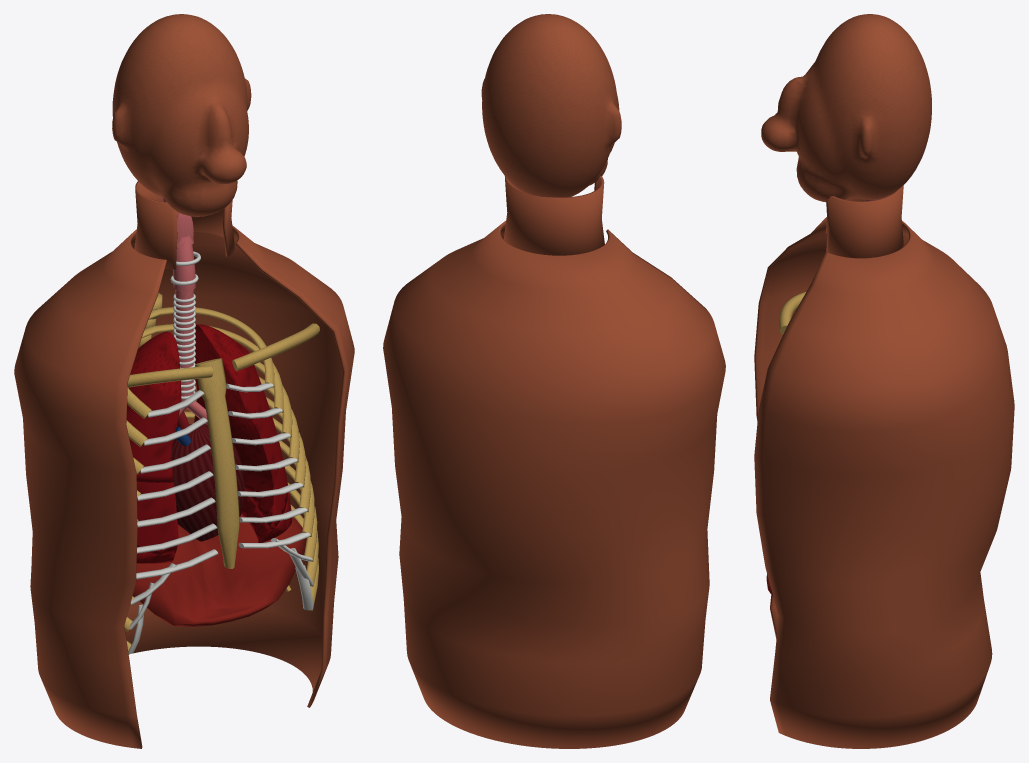
File: respiratory-IqcAyjvO.glb
3 renders of one model, left to right at view 1: azimuth 30°, elevation 25°; view 2: azimuth 150°, elevation 25°; view 3: azimuth 270°, elevation 25°, orthographic.
Parts seen in each view (by area): view 1: body, ribcage, lungs, diaphragm, mediastinum, airway; view 2: body; view 3: body, ribcage.
Boxes of the visible parts, box(x1,y1,x2,y2) form: body: box(14, 14, 354, 748); ribcage: box(124, 307, 319, 654); lungs: box(126, 324, 292, 563); diaphragm: box(132, 514, 306, 626); mediastinum: box(171, 411, 244, 541); airway: box(162, 197, 207, 424); body: box(383, 14, 725, 748); body: box(754, 14, 1014, 748); ribcage: box(779, 292, 805, 342).
Size of the model in its own units: 2.19 by 4.63 by 1.62.
12 materials, 12 textured.
